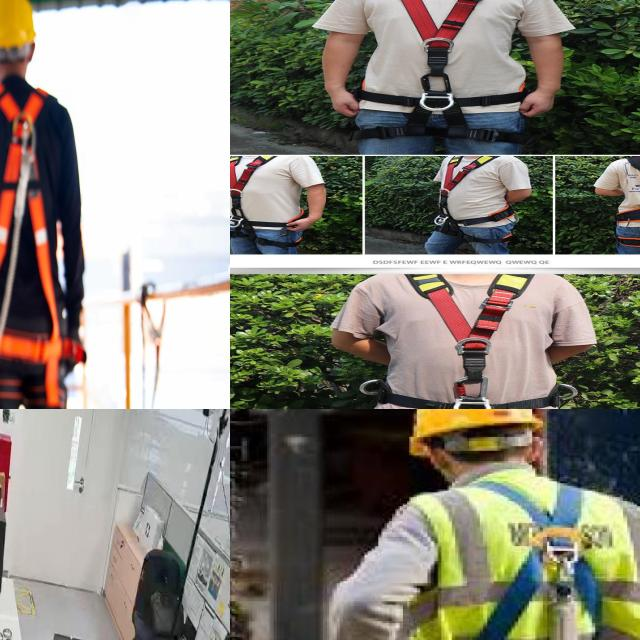Harness: (407, 476, 640, 640), (391, 273, 549, 409), (363, 0, 523, 129), (0, 80, 66, 365), (230, 153, 296, 234), (622, 158, 640, 240)
